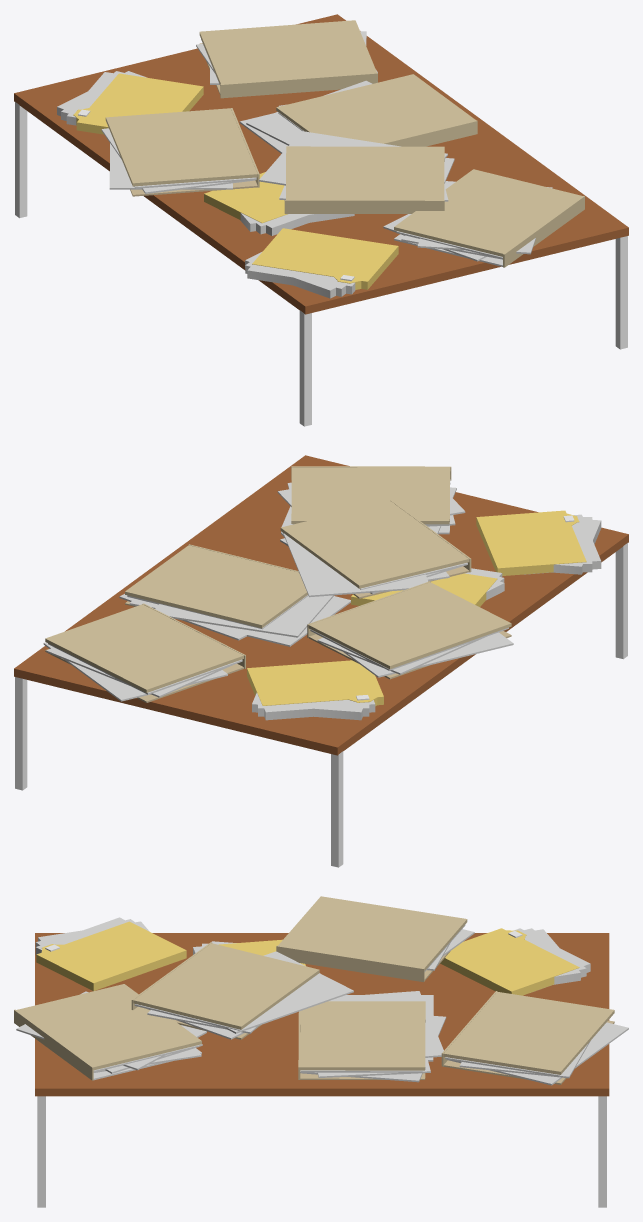
The model's file is documentos.gltf.
The picture shows the model from 3 angles, top to bottom: view 1: azimuth 30°, elevation 25°; view 2: azimuth 150°, elevation 25°; view 3: azimuth 270°, elevation 25°; orthographic projection.
Visible parts, largest first — view 1: Part (×18), Union (×6); view 2: Part (×17), Union (×5); view 3: Part (×18), Union (×5).
Boxes of the visible parts, left/top/right/bottom form: Part (×18): left=14, top=14, right=628, bottom=426; Union (×6): left=57, top=71, right=398, bottom=298; Part (×17): left=14, top=455, right=628, bottom=867; Union (×5): left=247, top=510, right=601, bottom=720; Part (×18): left=14, top=896, right=628, bottom=1207; Union (×5): left=35, top=917, right=590, bottom=995.
Size of the model in its own units: 9.44 by 3.59 by 14.03.
